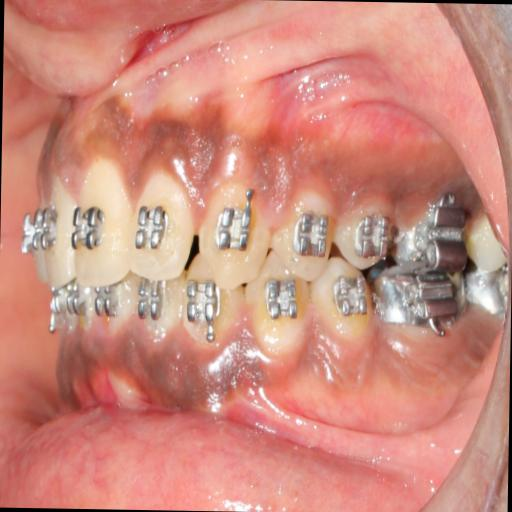correct_brace: (272, 188, 336, 282), (213, 198, 253, 256), (72, 198, 107, 256), (134, 206, 168, 254)
incorrect_brace: (132, 169, 192, 283), (290, 205, 330, 262)
